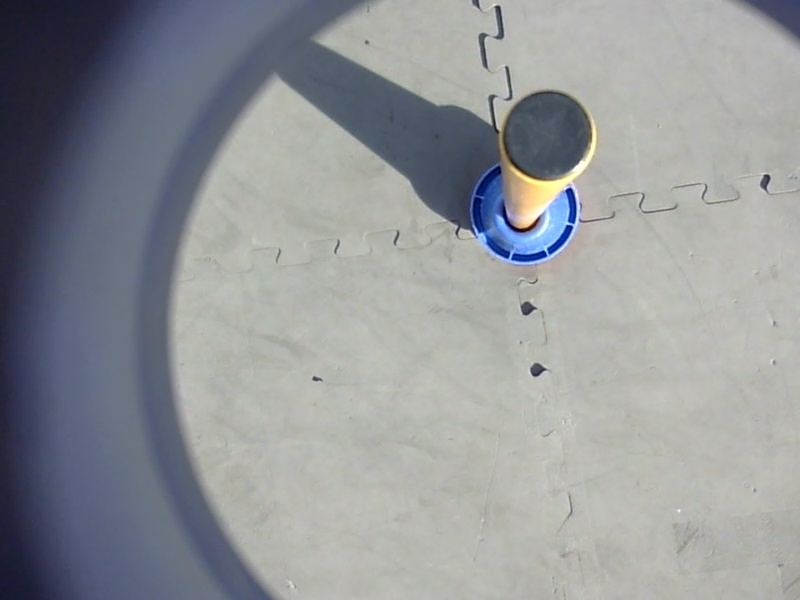tip: (491, 84, 604, 193)
